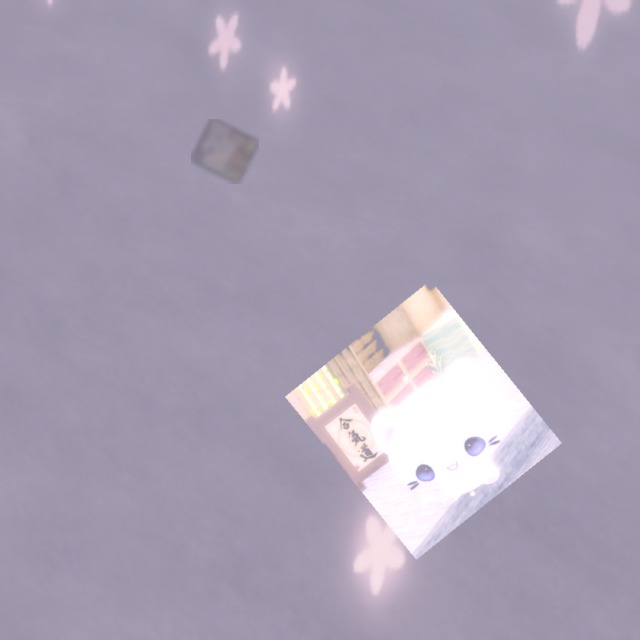urso_branco: (285, 280, 562, 560), (191, 119, 259, 184)
